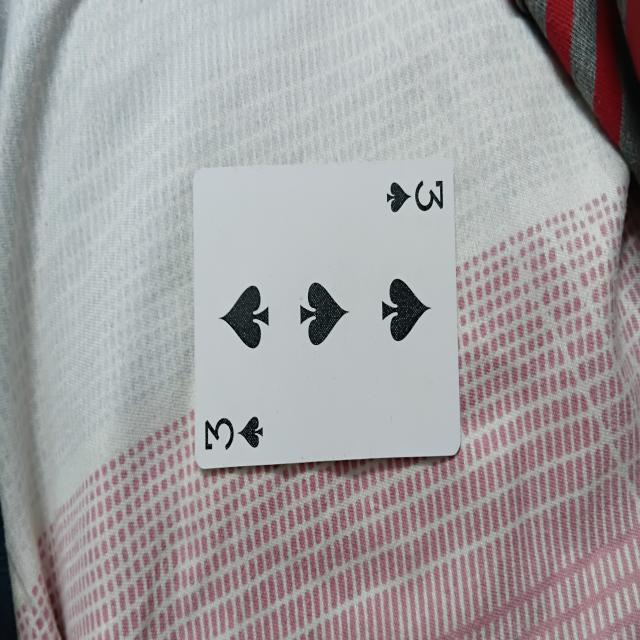3S: (191, 171, 467, 474)
